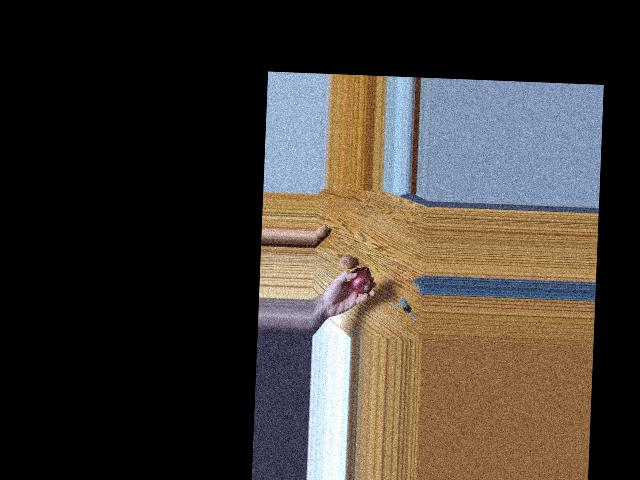onion: (337, 252, 353, 269)
